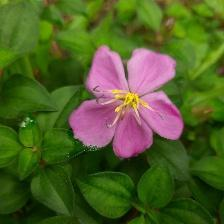malabar melastome: (70, 44, 187, 160)
